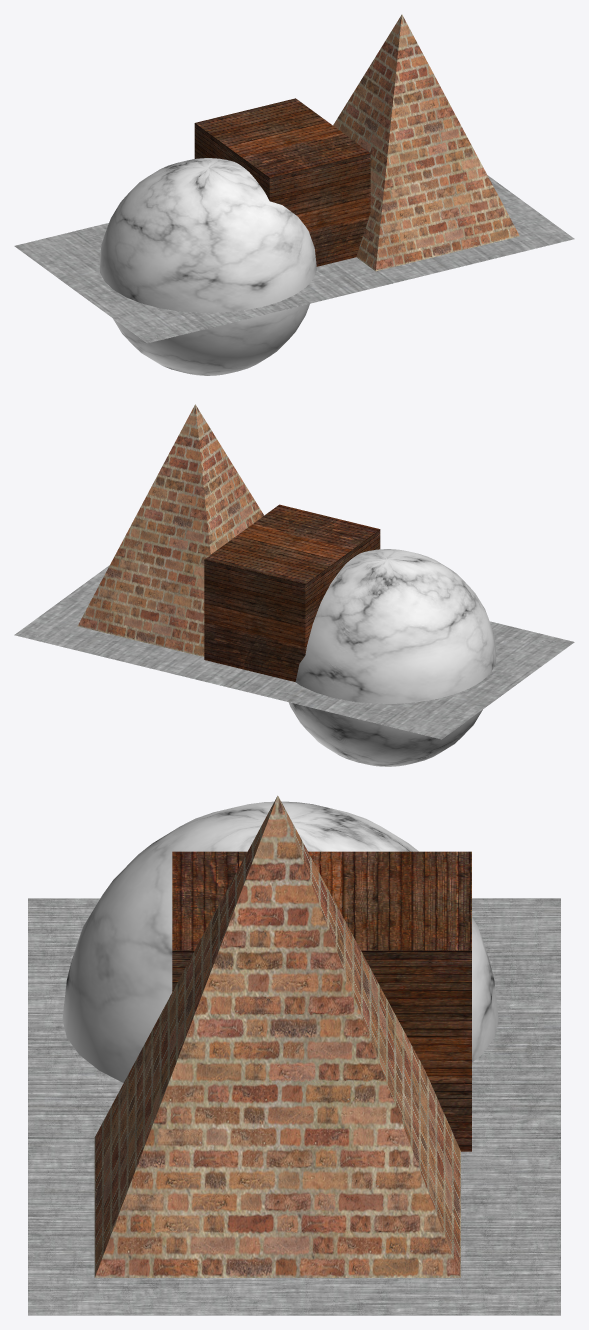
Rendered from multimesh.FBX.
3 views of the same model, one above another, from view 1: azimuth 30°, elevation 25°; view 2: azimuth 150°, elevation 25°; view 3: azimuth 270°, elevation 25° (orthographic). The views are drawn at different scales.
Parts seen in each view (by area): view 1: Sphere01, Pyramid01, Box01, Plane01; view 2: Sphere01, Pyramid01, Box01, Plane01; view 3: Pyramid01, Plane01, Box01, Sphere01.
Boxes of the visible parts, bbox=[...] form: Sphere01: bbox=[99, 158, 316, 375]; Pyramid01: bbox=[333, 14, 519, 271]; Box01: bbox=[194, 98, 370, 266]; Plane01: bbox=[14, 175, 574, 343]; Sphere01: bbox=[289, 549, 496, 766]; Pyramid01: bbox=[77, 404, 263, 656]; Box01: bbox=[204, 504, 380, 681]; Plane01: bbox=[14, 565, 574, 739]; Pyramid01: bbox=[94, 795, 460, 1277]; Plane01: bbox=[28, 898, 560, 1315]; Box01: bbox=[172, 851, 471, 1151]; Sphere01: bbox=[62, 801, 498, 1082].
Size of the model in its own units: 54.77 by 37.33 by 29.54.
4 materials, 4 textured.
